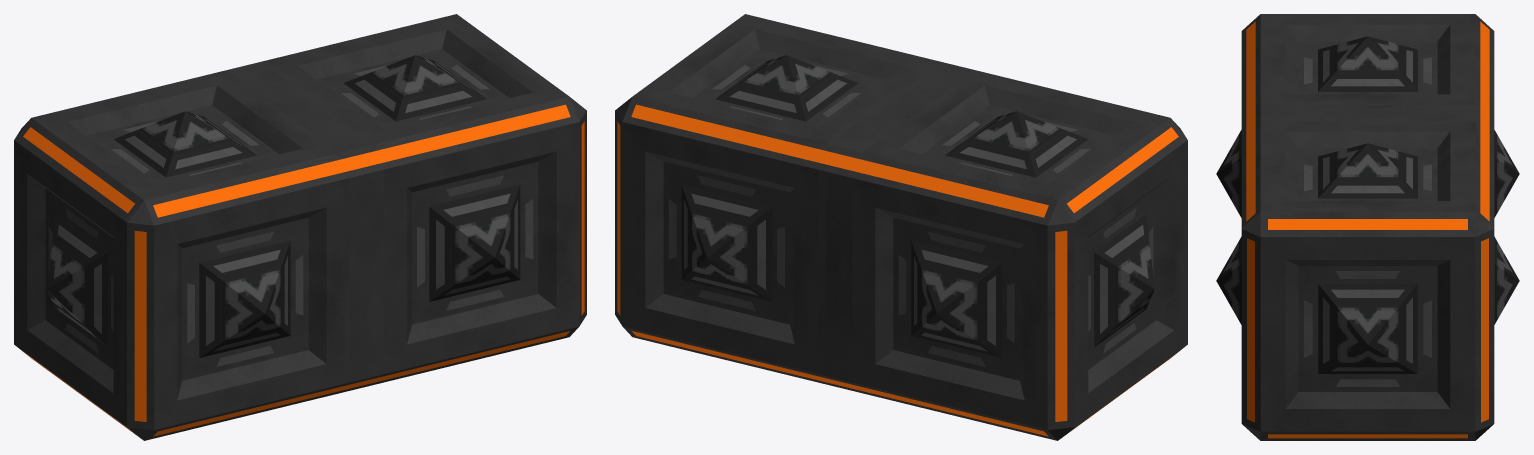
The model's file is IEC Two Block.obj.
3 views of the same model, side by side, from view 1: azimuth 30°, elevation 25°; view 2: azimuth 150°, elevation 25°; view 3: azimuth 270°, elevation 25° (orthographic). The views are drawn at different scales.
Visible parts, largest first — view 1: IEC_One_Block_Cube_HS_One_Block.002; view 2: IEC_One_Block_Cube_HS_One_Block.002; view 3: IEC_One_Block_Cube_HS_One_Block.002.
Part boxes in pixels (x1=…): IEC_One_Block_Cube_HS_One_Block.002: x1=14, y1=14, x2=586, y2=440; IEC_One_Block_Cube_HS_One_Block.002: x1=615, y1=14, x2=1187, y2=440; IEC_One_Block_Cube_HS_One_Block.002: x1=1216, y1=14, x2=1519, y2=440.
Bounding box in the file's own units: 2.2 × 1.2 × 1.2.
